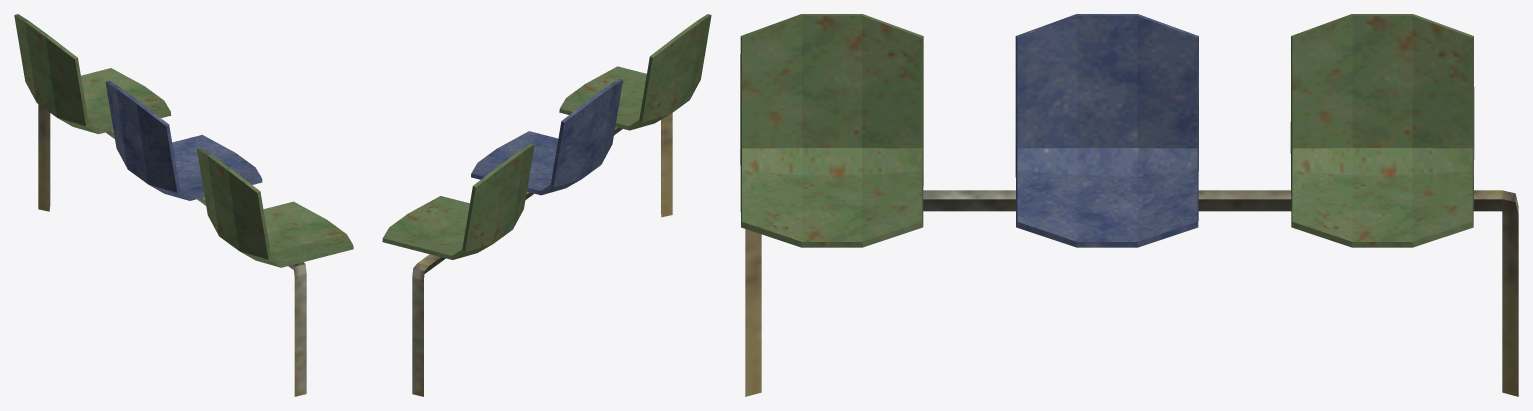
The model's file is Urban_BusstopThreeSeatsAlt3_Model.fbx.
3 renders of one model, left to right at view 1: azimuth 30°, elevation 25°; view 2: azimuth 150°, elevation 25°; view 3: azimuth 270°, elevation 25°, orthographic. The views are drawn at different scales.
Visible parts, largest first — view 1: Urban_BusstopThreeSeatsAlt3_Mesh; view 2: Urban_BusstopThreeSeatsAlt3_Mesh; view 3: Urban_BusstopThreeSeatsAlt3_Mesh.
Boxes of the visible parts, x1=… form: Urban_BusstopThreeSeatsAlt3_Mesh: x1=14, y1=14, x2=353, y2=396; Urban_BusstopThreeSeatsAlt3_Mesh: x1=382, y1=14, x2=711, y2=396; Urban_BusstopThreeSeatsAlt3_Mesh: x1=740, y1=14, x2=1518, y2=396.
Size of the model in its own units: 0.692 by 1.25 by 2.6.
